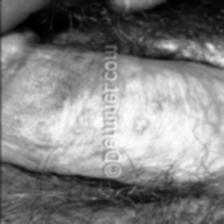Toxin: (72, 105, 100, 136), (123, 114, 151, 137), (146, 92, 162, 110)
